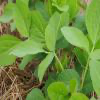Soyabean leaf: (60, 26, 90, 53), (8, 40, 46, 59), (34, 50, 54, 84), (45, 12, 61, 52), (85, 0, 99, 45), (89, 59, 99, 92)
